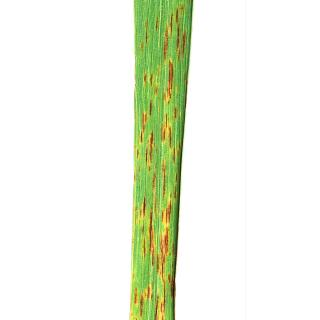Bercak-Cokelat-Sempit: (135, 108, 184, 160), (140, 202, 169, 266), (158, 8, 193, 58), (146, 163, 180, 201), (131, 285, 167, 320), (162, 57, 177, 106), (170, 272, 180, 300)
